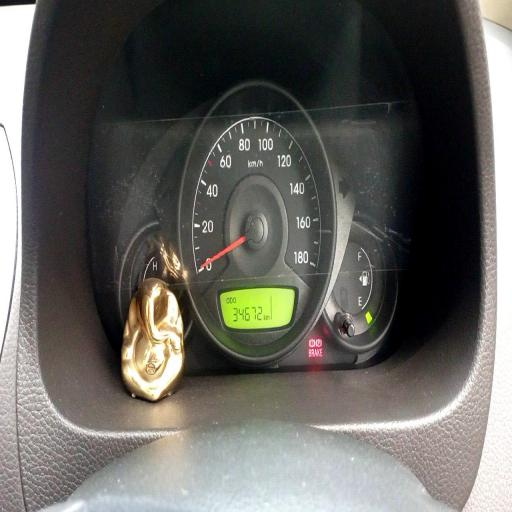brake_system_fault: (309, 338, 315, 348)
